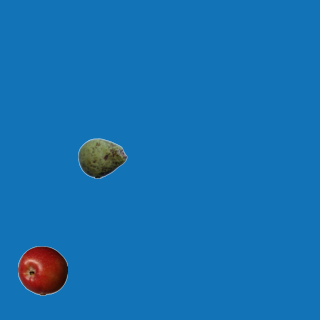Apple Braeburn: (17, 245, 67, 295)
Pear Stone: (77, 133, 127, 183)
